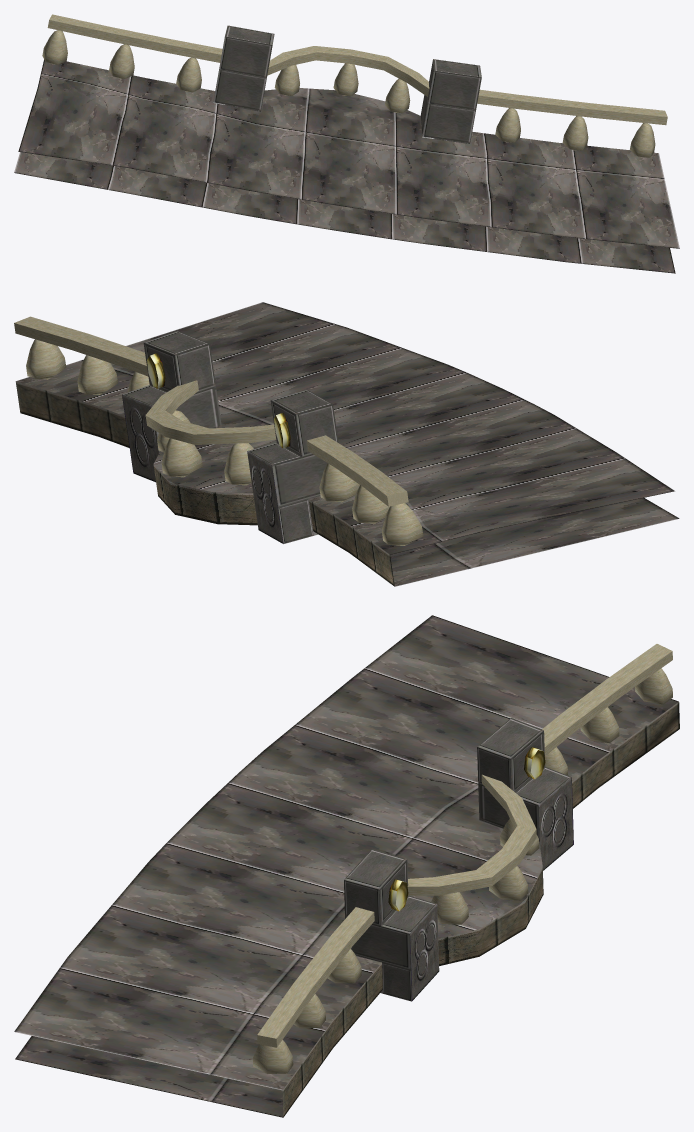
Rendered from CH09_SMAUG_PLAYSURFACE_LAIR16.fbx.
3 renders of one model, top to bottom at view 1: azimuth 30°, elevation 25°; view 2: azimuth 150°, elevation 25°; view 3: azimuth 270°, elevation 25°, orthographic. The views are drawn at different scales.
Visible parts, largest first — view 1: CH09_SMAUG_PLAYSURFACE_LAIR16; view 2: CH09_SMAUG_PLAYSURFACE_LAIR16; view 3: CH09_SMAUG_PLAYSURFACE_LAIR16.
Part boxes in pixels (<box>): CH09_SMAUG_PLAYSURFACE_LAIR16: <box>14,14,679,273</box>; CH09_SMAUG_PLAYSURFACE_LAIR16: <box>14,302,679,586</box>; CH09_SMAUG_PLAYSURFACE_LAIR16: <box>14,615,679,1117</box>.
Size of the model in its own units: 154358 by 39918 by 121722.
5 materials, 5 textured.
